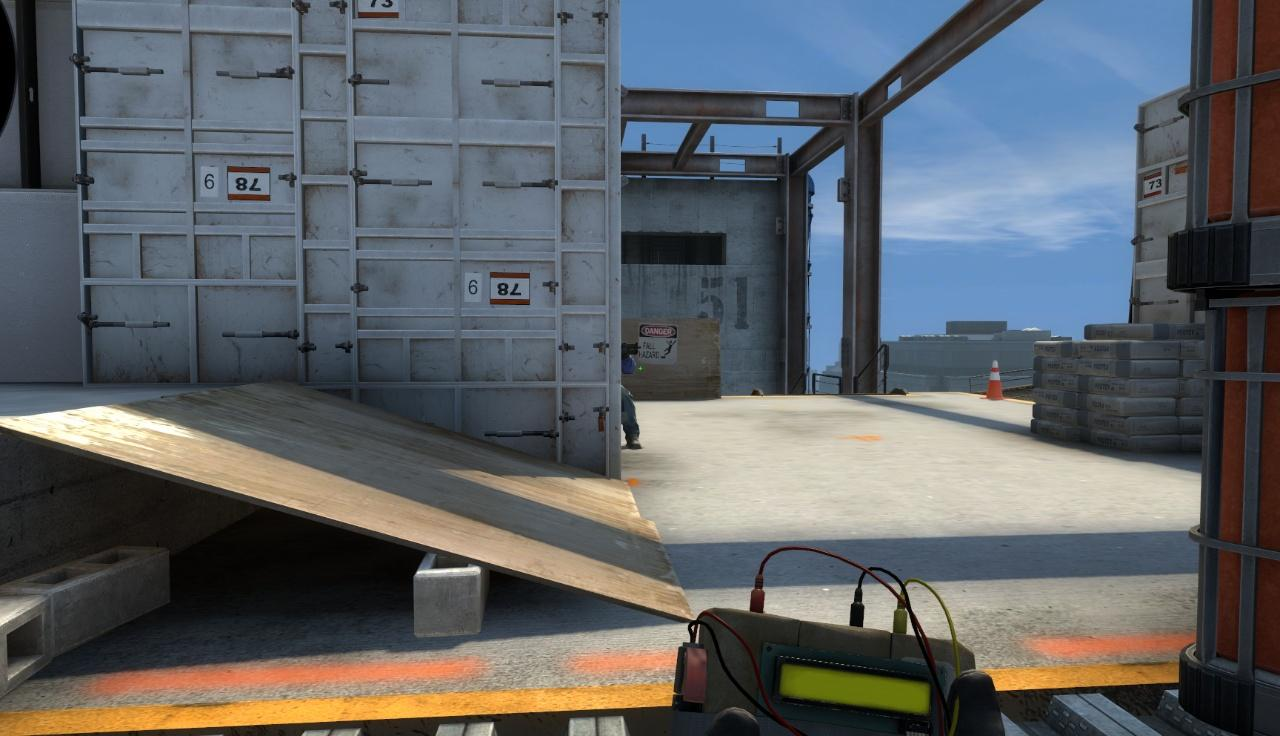tt: (621, 340, 639, 446)
